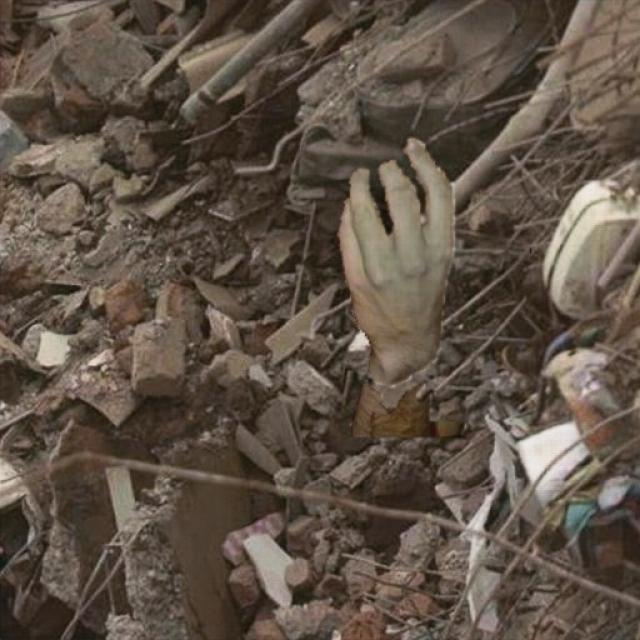Person in Rubble: (338, 138, 530, 436)
